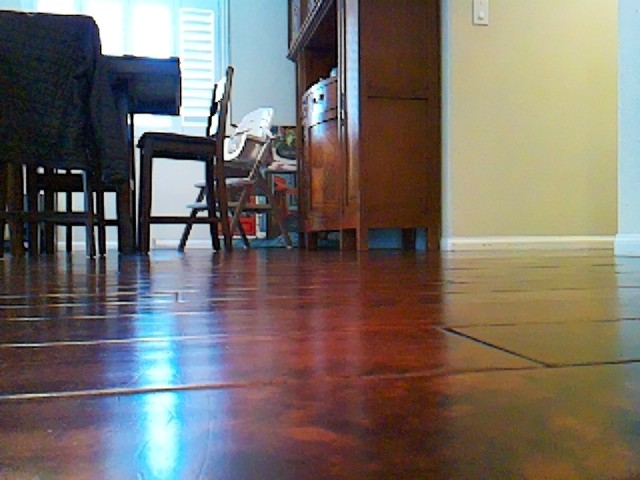Drivable Area: (8, 262, 640, 480)
Obstacle: (613, 0, 640, 258)
